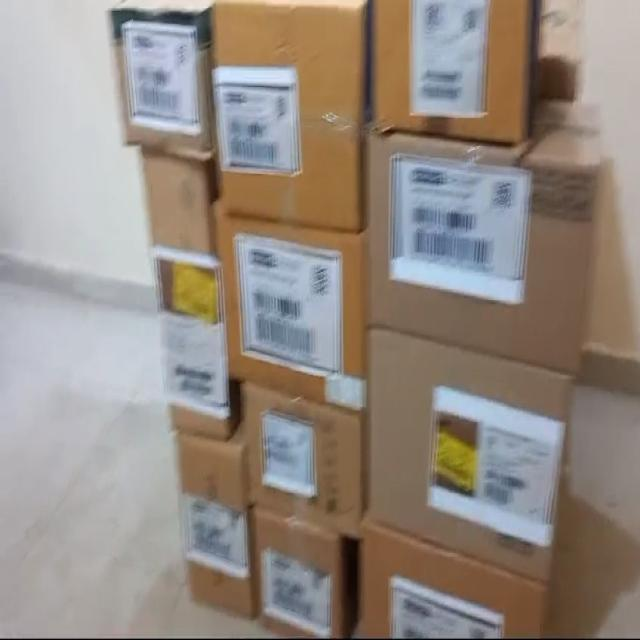BoxFace: (368, 129, 594, 366), (369, 315, 571, 567), (202, 1, 374, 231), (216, 213, 374, 421), (142, 147, 232, 440), (372, 0, 536, 159), (100, 0, 222, 171), (162, 409, 259, 623), (240, 377, 366, 533), (243, 504, 357, 640)
